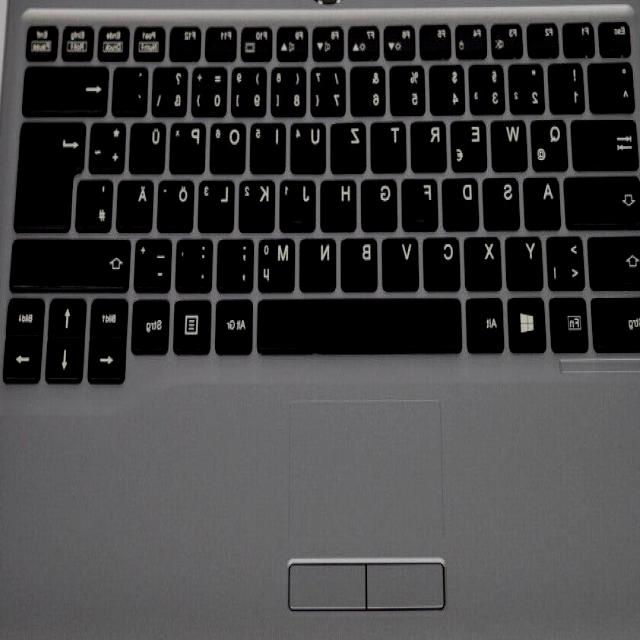0: (194, 63, 230, 115)
1: (551, 58, 587, 110)
2: (511, 60, 547, 111)
3: (471, 60, 508, 112)
4: (432, 60, 467, 111)
5: (392, 61, 428, 112)
6: (352, 61, 388, 112)
7: (312, 62, 348, 113)
8: (272, 62, 308, 113)
9: (233, 62, 269, 113)
a: (526, 173, 562, 227)
accent: (115, 62, 150, 113)
ae: (118, 176, 155, 231)
alt-left: (468, 293, 507, 351)
altgr-right: (218, 293, 256, 351)
b: (342, 233, 380, 288)
c: (425, 232, 463, 288)
caret: (591, 58, 637, 109)
comma: (219, 234, 257, 290)
d: (444, 173, 481, 228)
del: (25, 61, 111, 112)
e: (453, 115, 490, 169)
enter: (14, 116, 88, 228)
f: (404, 174, 440, 228)
g: (364, 174, 400, 228)
h: (323, 176, 359, 228)
hash: (79, 174, 115, 229)
i: (252, 118, 288, 170)
j: (282, 174, 318, 229)
k: (241, 175, 278, 229)
keyboard: (0, 4, 640, 397)
l: (200, 175, 237, 229)
less: (548, 231, 586, 289)
m: (260, 234, 297, 290)
minus: (136, 234, 174, 290)
n: (301, 234, 339, 290)
o: (212, 117, 249, 171)
oe: (159, 175, 196, 229)
p: (172, 117, 208, 171)
plus: (92, 118, 128, 170)
point: (177, 234, 215, 290)
q: (533, 115, 570, 169)
r: (413, 116, 449, 168)
s: (485, 173, 522, 227)
shift-left: (591, 229, 640, 287)
shift-lock: (566, 170, 640, 225)
shift-right: (12, 232, 134, 287)
space: (260, 293, 465, 348)
ss: (154, 63, 190, 115)
strg-left: (593, 291, 640, 349)
strg-right: (134, 292, 173, 352)
t: (373, 116, 409, 170)
tab: (574, 113, 640, 167)
u: (292, 117, 328, 171)
ue: (131, 117, 169, 171)
v: (383, 232, 421, 288)
w: (493, 115, 530, 169)
x: (466, 231, 503, 289)
y: (507, 231, 545, 289)
z: (333, 117, 369, 171)
